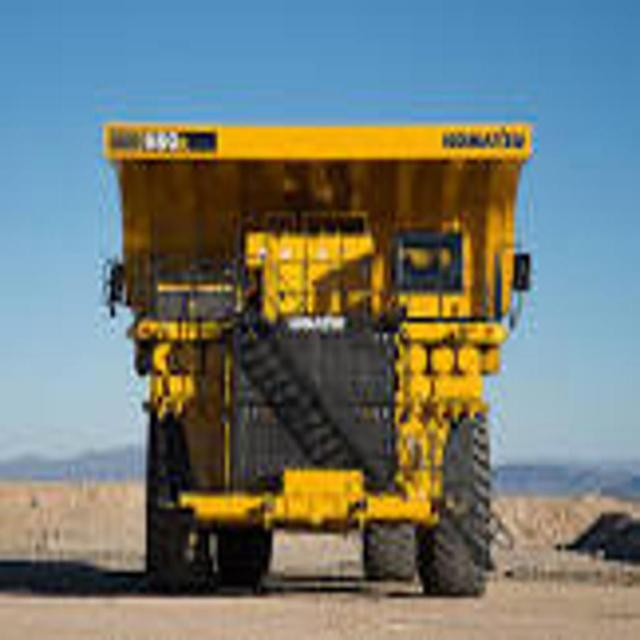dump_truck: (97, 67, 538, 630)
